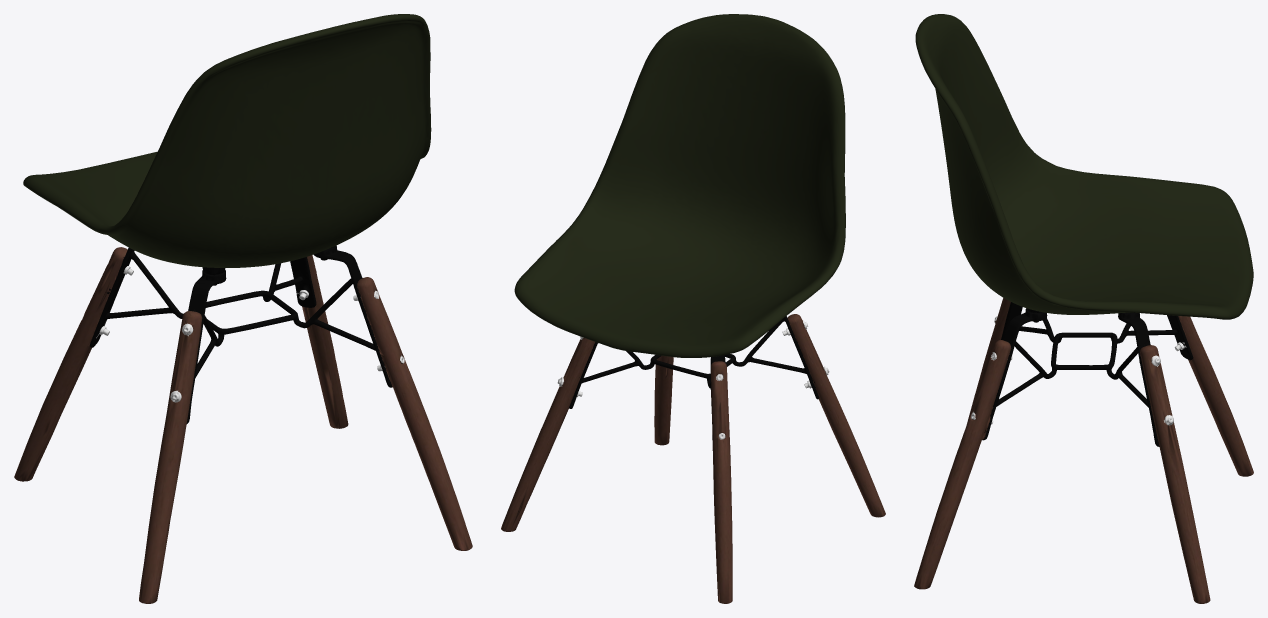
Rendered from ND-0607__Elon.glb.
3 renders of one model, left to right at view 1: azimuth 30°, elevation 25°; view 2: azimuth 150°, elevation 25°; view 3: azimuth 270°, elevation 25°, orthographic. The views are drawn at different scales.
Parts seen in each view (by area): view 1: tripo_node_aeb78299-7747-400a-b60e-9c411fa0cf6e, tripo_node_aeb78299-7747-400a-b60e-9c411fa0cf6e.001, tripo_node_aeb78299-7747-400a-b60e-9c411fa0cf6e.003; view 2: tripo_node_aeb78299-7747-400a-b60e-9c411fa0cf6e, tripo_node_aeb78299-7747-400a-b60e-9c411fa0cf6e.001, tripo_node_aeb78299-7747-400a-b60e-9c411fa0cf6e.003; view 3: tripo_node_aeb78299-7747-400a-b60e-9c411fa0cf6e, tripo_node_aeb78299-7747-400a-b60e-9c411fa0cf6e.001, tripo_node_aeb78299-7747-400a-b60e-9c411fa0cf6e.003.
Boxes of the visible parts, x1,y1,x2,y2 form: tripo_node_aeb78299-7747-400a-b60e-9c411fa0cf6e: (23,14,431,267); tripo_node_aeb78299-7747-400a-b60e-9c411fa0cf6e.001: (14,247,472,603); tripo_node_aeb78299-7747-400a-b60e-9c411fa0cf6e.003: (89,245,392,423); tripo_node_aeb78299-7747-400a-b60e-9c411fa0cf6e: (514,14,845,357); tripo_node_aeb78299-7747-400a-b60e-9c411fa0cf6e.001: (501,314,885,603); tripo_node_aeb78299-7747-400a-b60e-9c411fa0cf6e.003: (569,316,819,450); tripo_node_aeb78299-7747-400a-b60e-9c411fa0cf6e: (915,14,1253,319); tripo_node_aeb78299-7747-400a-b60e-9c411fa0cf6e.001: (914,298,1253,603); tripo_node_aeb78299-7747-400a-b60e-9c411fa0cf6e.003: (982,302,1193,446).
Bounding box in the file's own units: 0.6284 × 0.9794 × 0.61.
10 materials, 2 textured.
